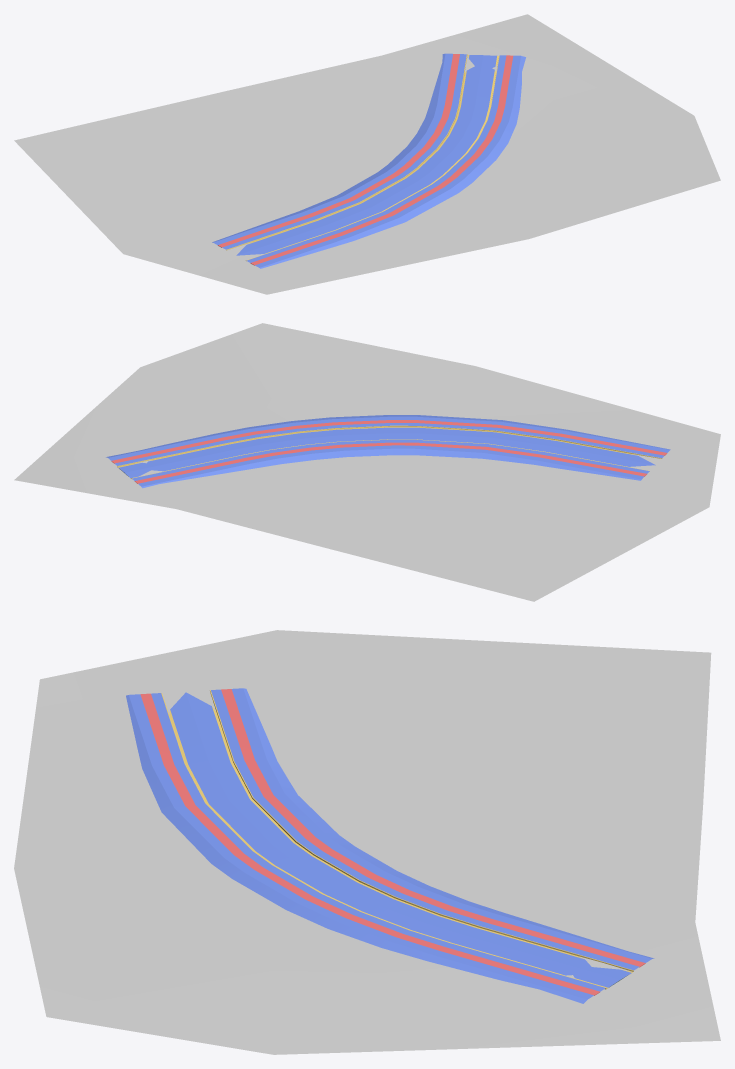
Rendered from CivilRoadSample.fbx.
The picture shows the model from 3 angles, top to bottom: view 1: azimuth 30°, elevation 25°; view 2: azimuth 150°, elevation 25°; view 3: azimuth 270°, elevation 25°; orthographic projection. The views are drawn at different scales.
Visible parts, largest first — view 1: 3D тело (×7), BODY (×6); view 2: 3D тело (×7), BODY (×6); view 3: 3D тело (×7), BODY (×6).
Part boxes in pixels (box(x1,y1,x2,y2)): 3D тело (×7): box(14, 14, 720, 294); BODY (×6): box(212, 53, 525, 268); 3D тело (×7): box(14, 323, 720, 601); BODY (×6): box(106, 415, 670, 488); 3D тело (×7): box(14, 630, 720, 1054); BODY (×6): box(126, 688, 654, 1003).
Bounding box in the file's own units: 170 × 120 × 1.21.
